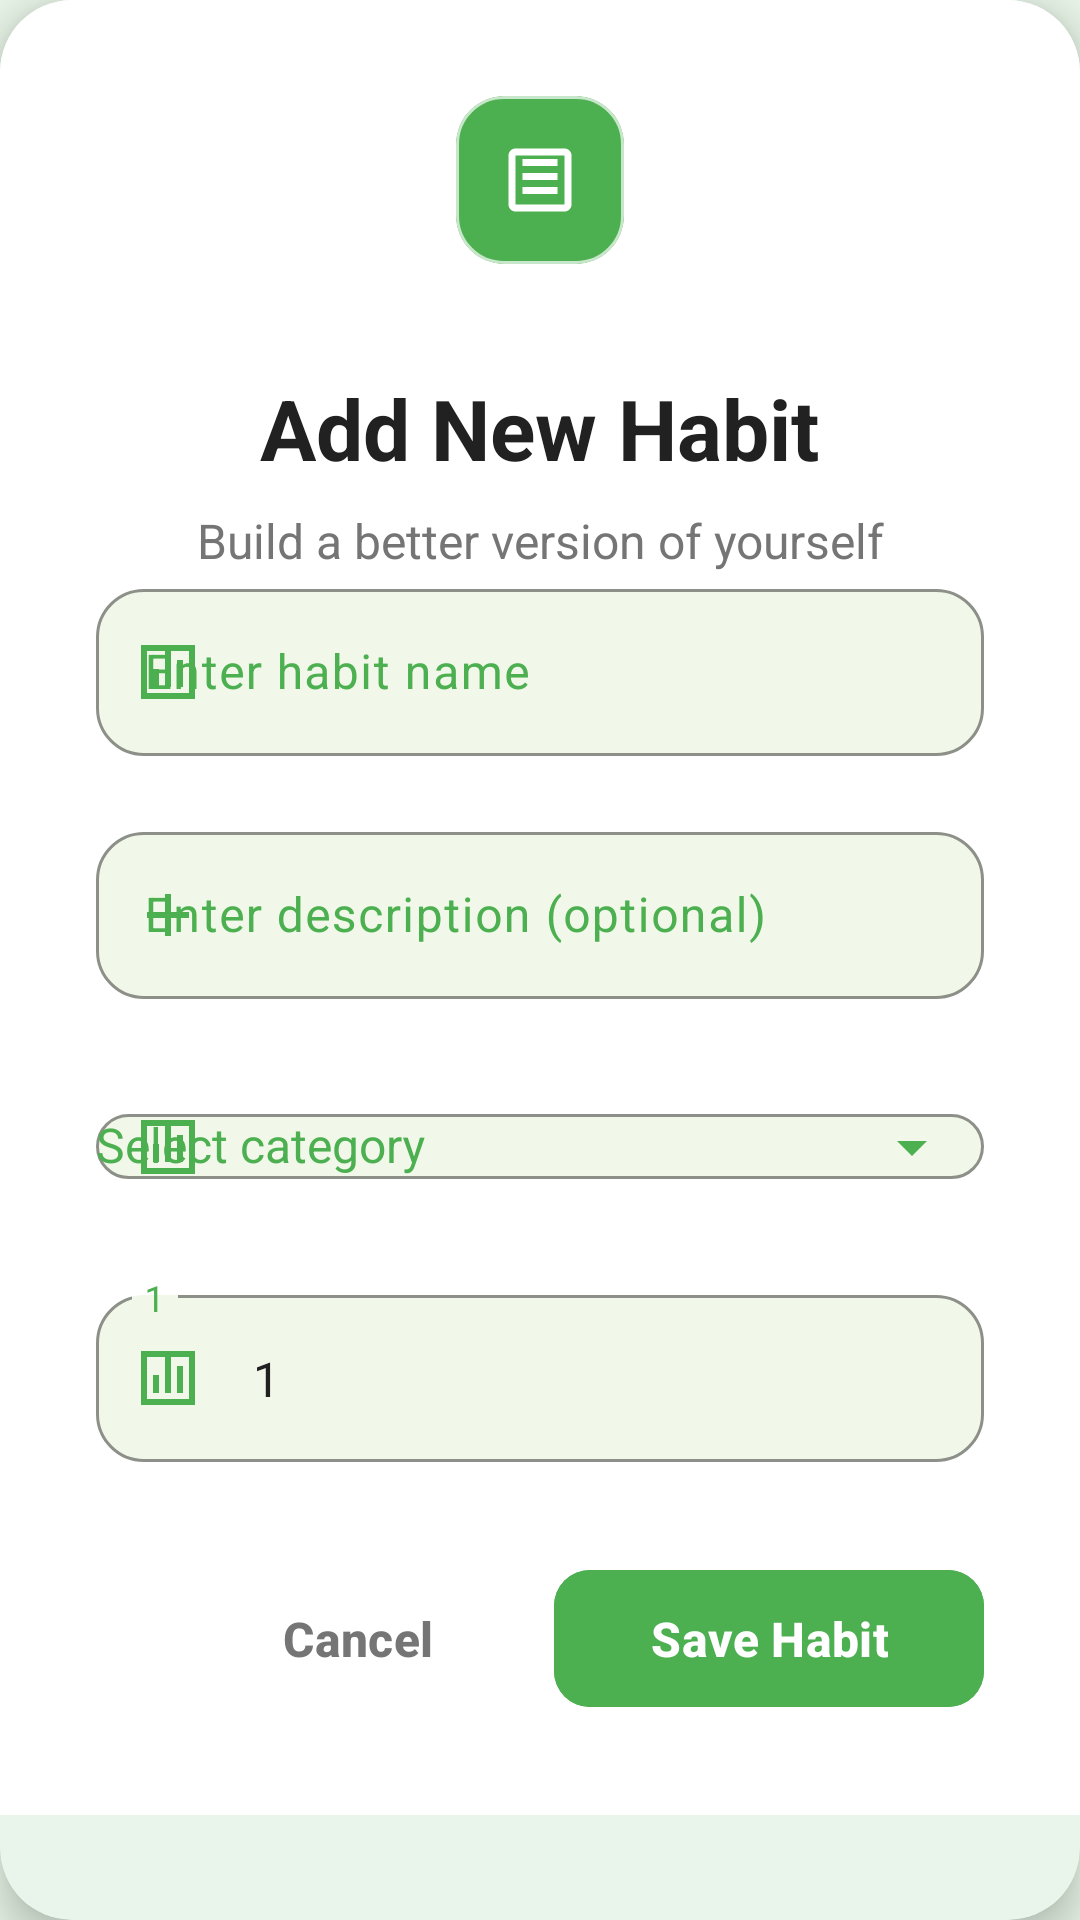

Point at icon controls on the screen. Image size 1080×1920, points as [x,y].
Habits icon: [540,180]
